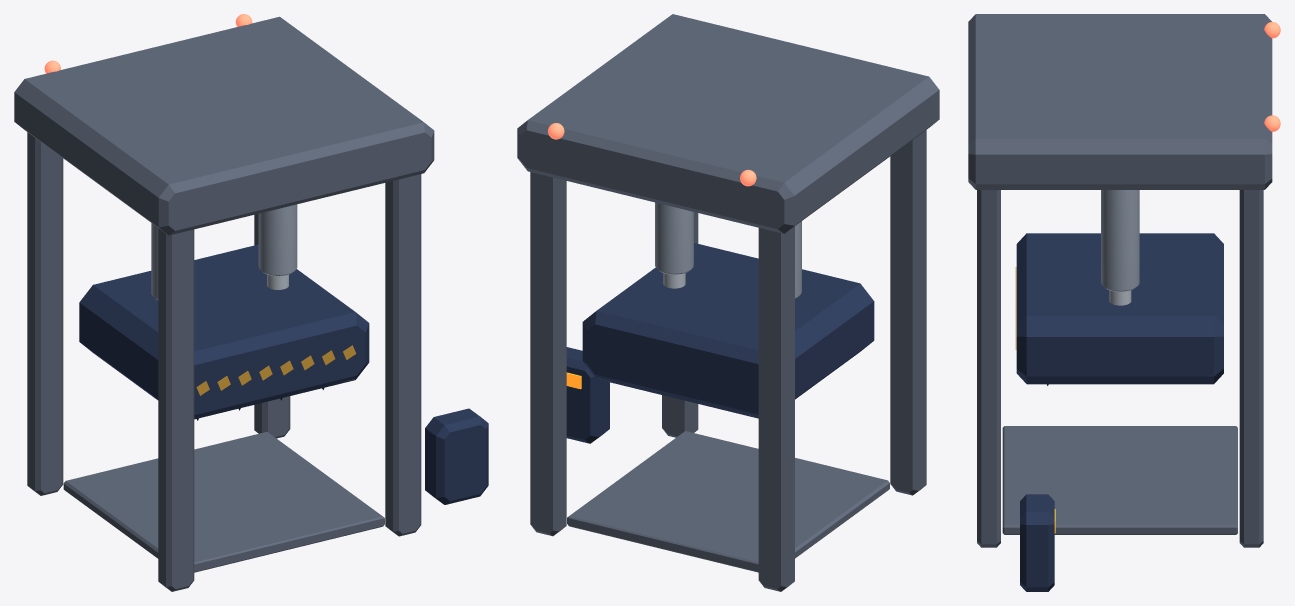
The model's file is shared_crusher.glb.
3 views of the same model, side by side, from view 1: azimuth 30°, elevation 25°; view 2: azimuth 150°, elevation 25°; view 3: azimuth 270°, elevation 25° (orthographic).
Parts seen in each view (by area): view 1: crusher_beam, crusher_head_block, crusher_anvil, crusher_leg-1.91.9, crusher_leg1.91.9, crusher_leg-1.9-1.9, crusher_console, crusher_cyl1, crusher_leg1.9-1.9, crusher_head_hazard; view 2: crusher_beam, crusher_head_block, crusher_anvil, crusher_leg-1.9-1.9, crusher_leg1.9-1.9, crusher_leg-1.91.9, crusher_console, crusher_cyl1, crusher_leg1.91.9; view 3: crusher_beam, crusher_head_block, crusher_anvil, crusher_leg1.9-1.9, crusher_leg1.91.9, crusher_cyl1, crusher_console.
Boxes of the visible parts, x1,y1,x2,y2 form: crusher_beam: (14, 16, 434, 235); crusher_head_block: (79, 244, 369, 419); crusher_anvil: (63, 432, 384, 572); crusher_leg-1.91.9: (158, 228, 194, 591); crusher_leg1.91.9: (385, 174, 421, 536); crusher_leg-1.9-1.9: (27, 132, 63, 495); crusher_console: (425, 408, 488, 504); crusher_cyl1: (258, 204, 297, 276); crusher_leg1.9-1.9: (254, 214, 290, 438); crusher_head_hazard: (196, 345, 356, 395); crusher_beam: (517, 14, 939, 233); crusher_head_block: (582, 243, 874, 418); crusher_anvil: (567, 431, 889, 572); crusher_leg-1.9-1.9: (758, 226, 794, 591); crusher_leg1.9-1.9: (530, 172, 566, 536); crusher_leg-1.91.9: (890, 130, 926, 495); crusher_console: (566, 347, 609, 443); crusher_cyl1: (655, 202, 693, 274); crusher_leg1.91.9: (662, 212, 698, 437); crusher_beam: (968, 14, 1272, 189); crusher_head_block: (1016, 233, 1223, 384); crusher_anvil: (1002, 426, 1237, 534); crusher_leg1.9-1.9: (1239, 190, 1263, 547); crusher_leg1.91.9: (977, 190, 1000, 547); crusher_cyl1: (1101, 190, 1139, 291); crusher_console: (1020, 494, 1054, 591).
Bounding box in the file's own units: 5.95 × 6.71 × 4.52.
